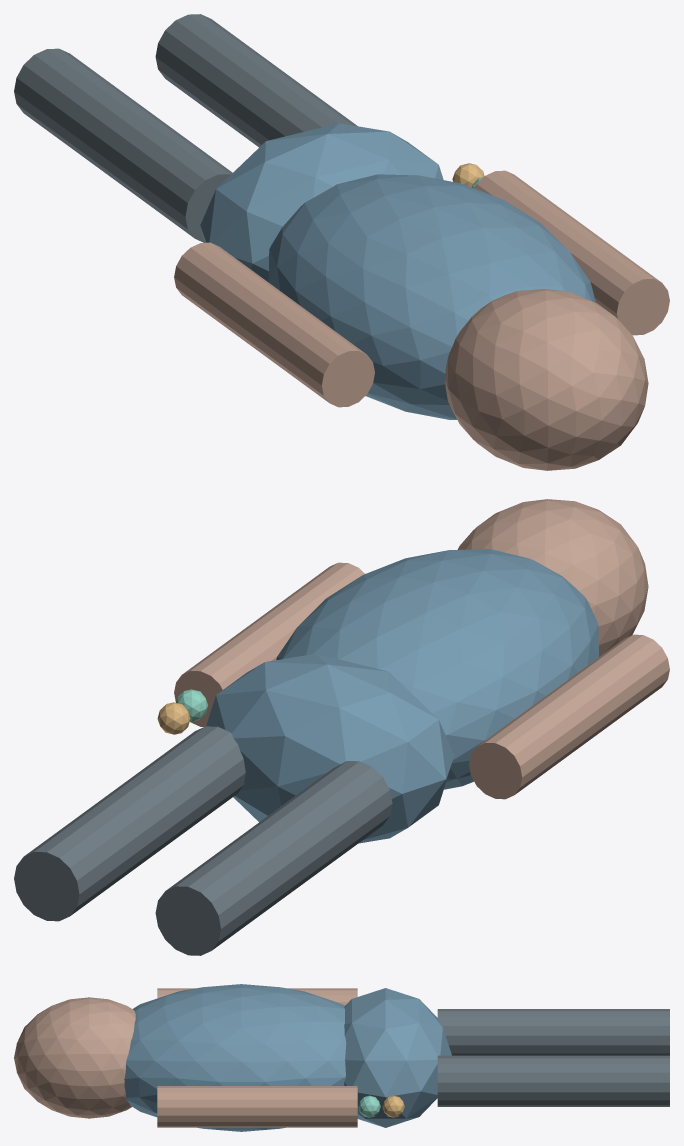
Rendered from patient-vitals-medium.glb.
The picture shows the model from 3 angles, top to bottom: view 1: azimuth 30°, elevation 25°; view 2: azimuth 150°, elevation 25°; view 3: azimuth 270°, elevation 25°; orthographic projection. The views are drawn at different scales.
Parts seen in each view (by area): view 1: torso, head, left_leg, pelvis, left_arm, right_leg, right_arm; view 2: torso, pelvis, left_leg, right_leg, left_arm, head, right_arm, spo2_site_right_hand, pulse_site_right_wrist; view 3: torso, right_leg, head, pelvis, left_leg, right_arm, left_arm, pulse_site_right_wrist, spo2_site_right_hand.
Part boxes in pixels (<box>): torso: <box>268,174,595,419</box>; head: <box>444,289,648,470</box>; left_leg: <box>14,48,232,242</box>; pelvis: <box>200,123,443,282</box>; left_arm: <box>174,242,374,407</box>; right_leg: <box>155,14,357,147</box>; right_arm: <box>474,170,669,335</box>; torso: <box>276,549,598,789</box>; pelvis: <box>206,653,454,843</box>; left_leg: <box>155,761,392,955</box>; right_leg: <box>14,726,245,921</box>; left_arm: <box>469,634,669,799</box>; head: <box>457,499,648,656</box>; right_arm: <box>174,562,364,726</box>; spo2_site_right_hand: <box>157,702,190,734</box>; pulse_site_right_wrist: <box>176,689,208,721</box>; torso: <box>124,984,346,1131</box>; right_leg: <box>437,1055,669,1106</box>; head: <box>14,997,135,1118</box>; pelvis: <box>344,988,451,1127</box>; left_leg: <box>437,1009,669,1055</box>; right_arm: <box>157,1086,357,1127</box>; left_arm: <box>157,988,357,1005</box>; pulse_site_right_wrist: <box>358,1095,380,1117</box>; spo2_site_right_hand: <box>382,1095,404,1117</box>.
Bounding box in the file's own units: 1.7 × 0.87 × 4.1.
